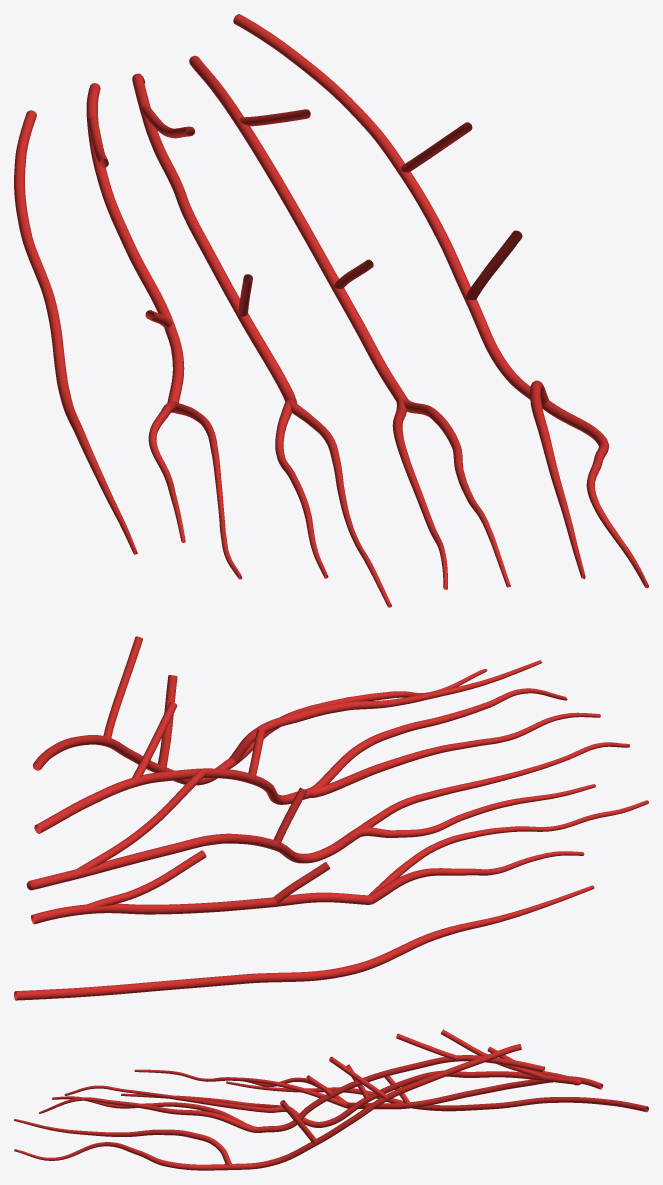
The model's file is circulatorio-plantar-metatarsal-arteries-r.glb.
3 views of the same model, one above another, from view 1: azimuth 30°, elevation 25°; view 2: azimuth 150°, elevation 25°; view 3: azimuth 270°, elevation 25° (orthographic). The views are drawn at different scales.
Parts seen in each view (by area): view 1: Proper plantar digital arteries.r, Plantar metatarsal arteries.r, Common plantar digital arteries.r, Perforating branches of plantar metatarsal arteries.r; view 2: Proper plantar digital arteries.r, Plantar metatarsal arteries.r, Perforating branches of plantar metatarsal arteries.r, Common plantar digital arteries.r; view 3: Proper plantar digital arteries.r, Plantar metatarsal arteries.r, Perforating branches of plantar metatarsal arteries.r, Common plantar digital arteries.r.
Boxes of the visible parts, box(x1,y1,x2,y2) form: Proper plantar digital arteries.r: box(14, 110, 648, 607); Plantar metatarsal arteries.r: box(86, 14, 470, 322); Common plantar digital arteries.r: box(164, 287, 530, 403); Perforating branches of plantar metatarsal arteries.r: box(88, 105, 522, 328); Proper plantar digital arteries.r: box(14, 660, 648, 1000); Plantar metatarsal arteries.r: box(26, 735, 279, 924); Perforating branches of plantar metatarsal arteries.r: box(76, 636, 330, 907); Common plantar digital arteries.r: box(165, 758, 371, 906); Proper plantar digital arteries.r: box(14, 1069, 648, 1170); Plantar metatarsal arteries.r: box(315, 1044, 603, 1145); Perforating branches of plantar metatarsal arteries.r: box(280, 1029, 567, 1143); Common plantar digital arteries.r: box(230, 1094, 408, 1169).
Bounding box in the file's own units: 0.0627 × 0.0353 × 0.1436.
